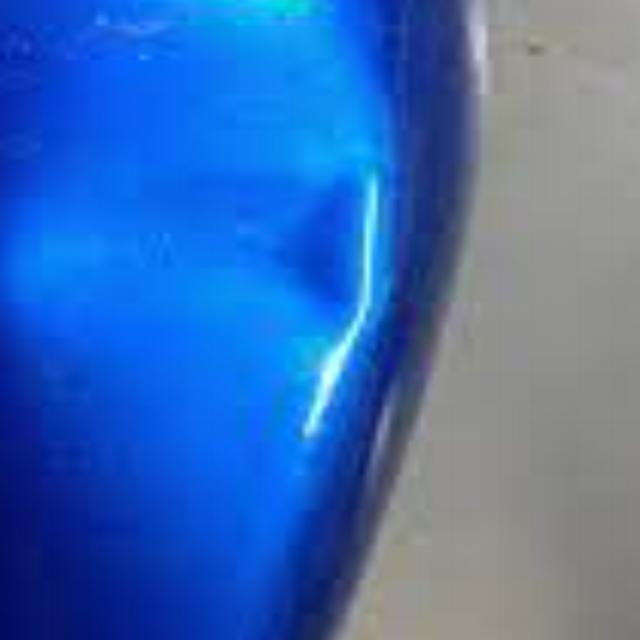dents: (278, 158, 430, 454)
